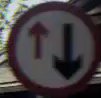Two way: (9, 7, 90, 87)
